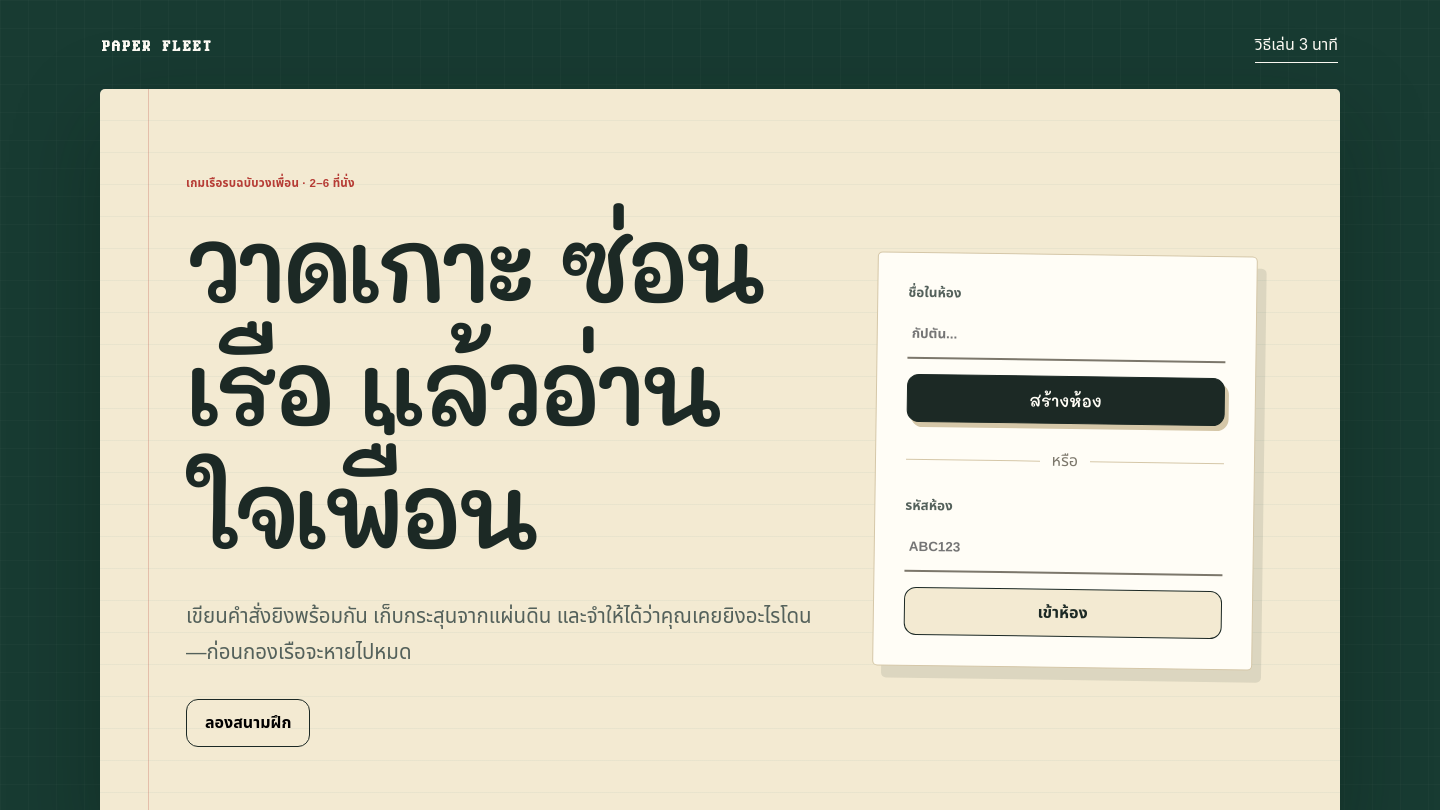
it: App › opens the guided tutorial without requiring a server
The image size is (1440, 810).
Click the button "ลองสนามฝึก" at (248, 723), box [186, 699, 310, 747]
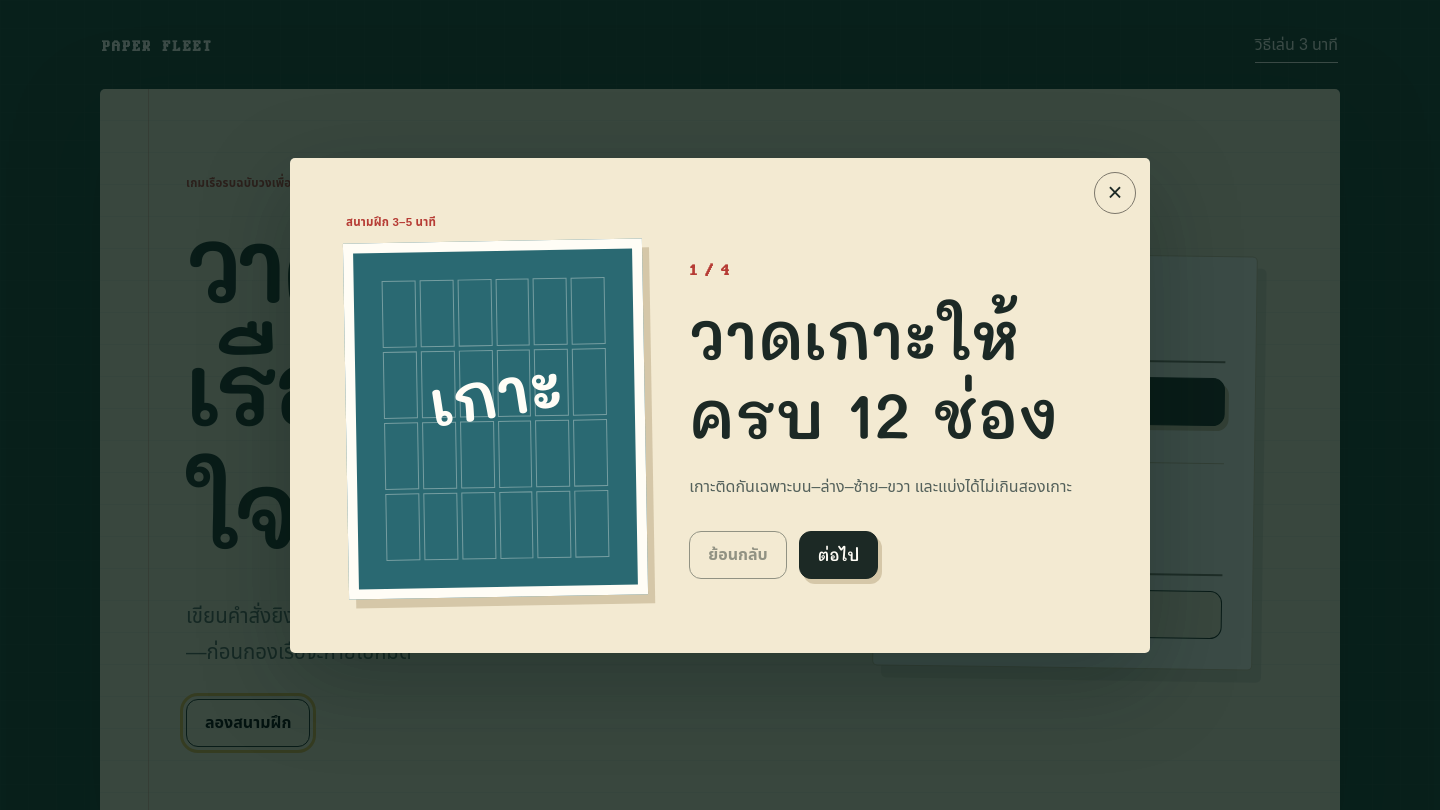
Check: the dialog named "สนามฝึก Paper Fleet" is shown, box [290, 158, 1150, 652]
Check: the text "1 / 4" is shown, box [689, 262, 729, 278]
